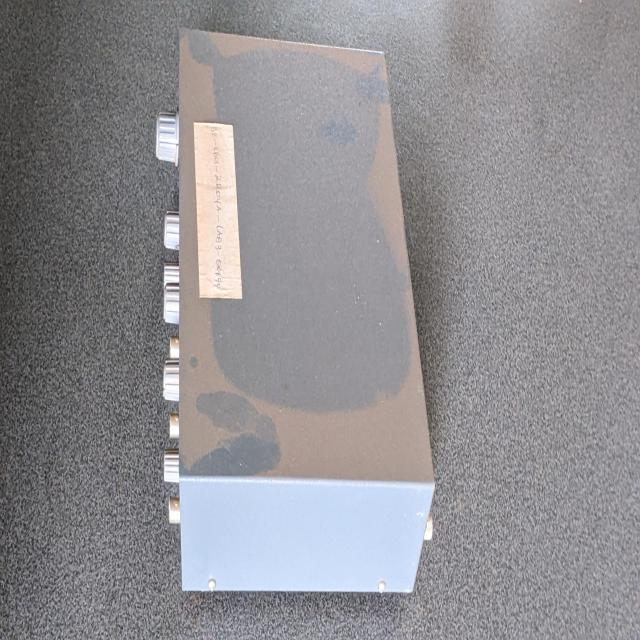A 200KHZ Function Generator: (152, 22, 436, 606)
